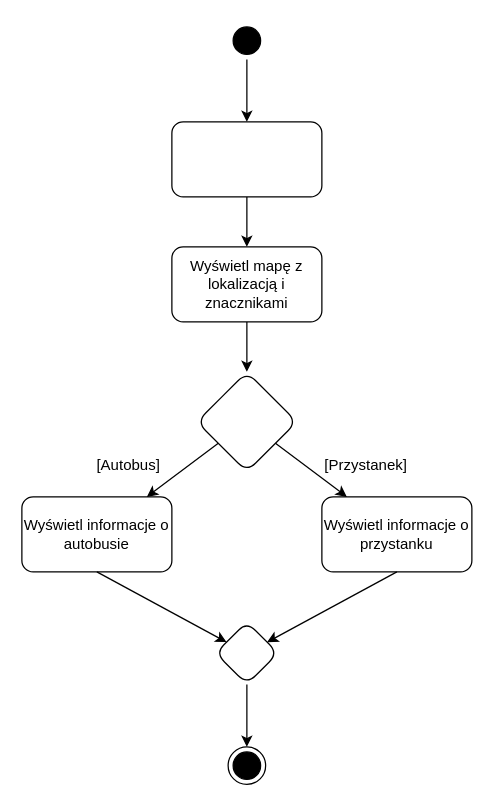
Some shapes in this 494 by 806 pixel diagram are drawn without their labels. The box of each missing label's shape, as (x1, y1, x2, y2) in pixels:
Wybierz opcję wyświetlenia mapy: (171, 121, 322, 197)
Wybrano znacznik: (196, 371, 297, 472)
